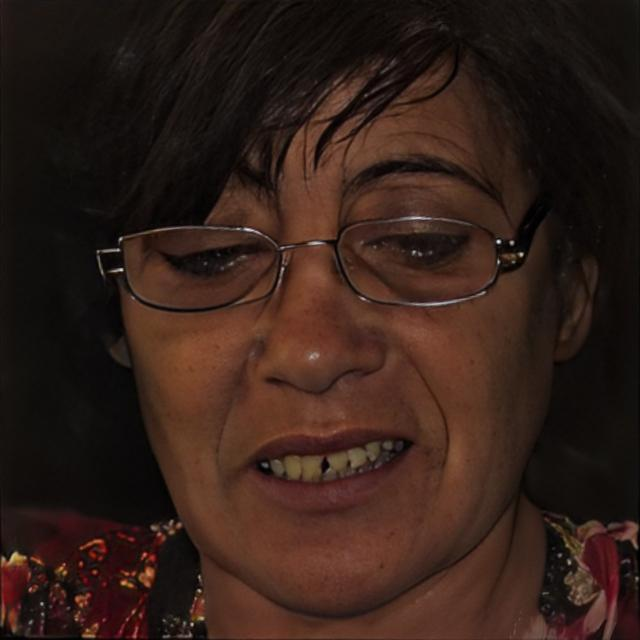sad: (130, 61, 557, 616)
